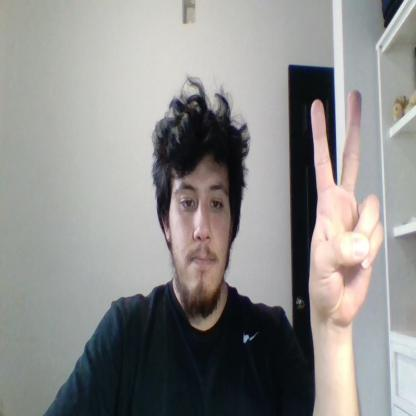V: (309, 90, 384, 328)
